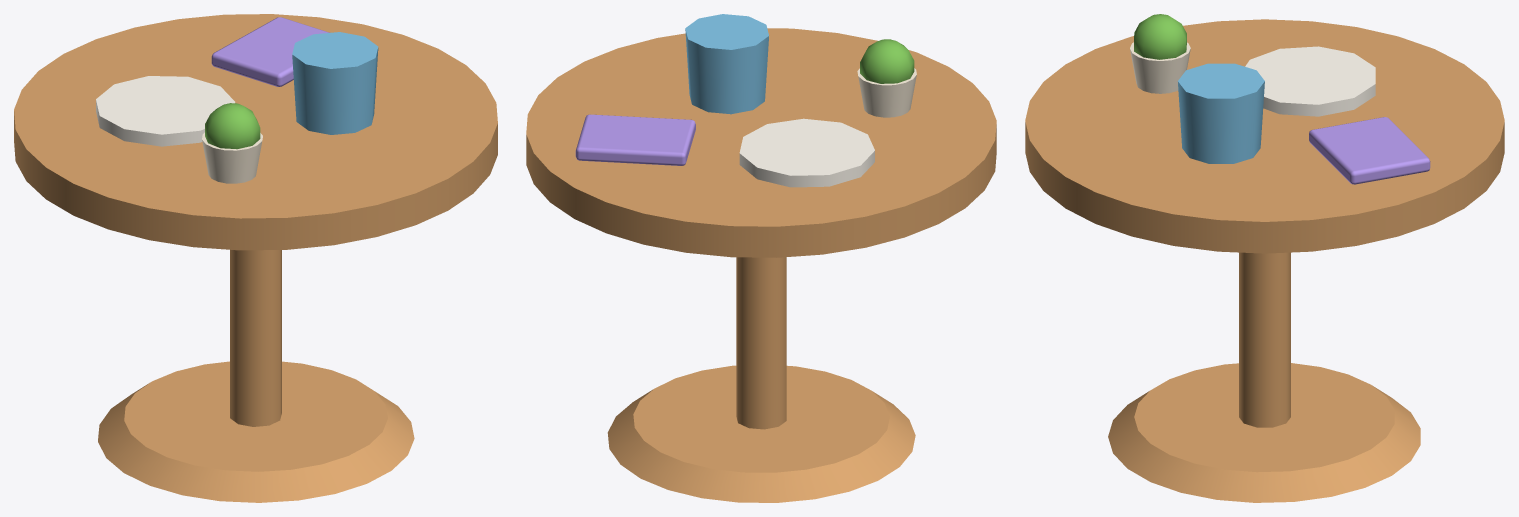
Rendered from table.glb.
3 views of the same model, side by side, from view 1: azimuth 30°, elevation 25°; view 2: azimuth 150°, elevation 25°; view 3: azimuth 270°, elevation 25° (orthographic). The views are drawn at different scales.
Size of the model in its own units: 1.1 by 0.97 by 1.1.
